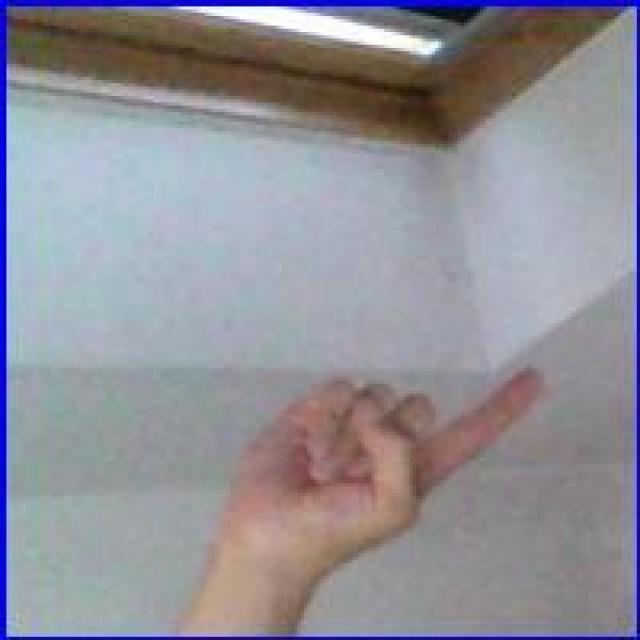Z: (227, 363, 547, 542)
